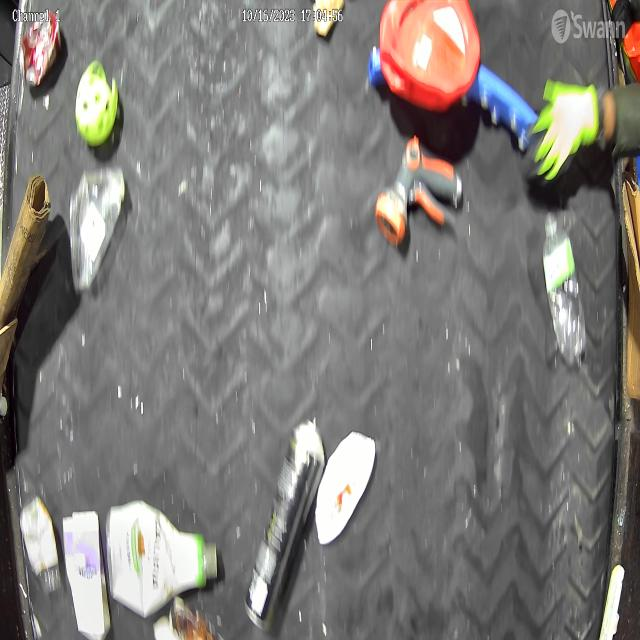can: (15, 4, 66, 82)
non_white_jug: (380, 0, 478, 89)
plastic_bottle: (65, 165, 130, 306), (542, 212, 592, 376)
